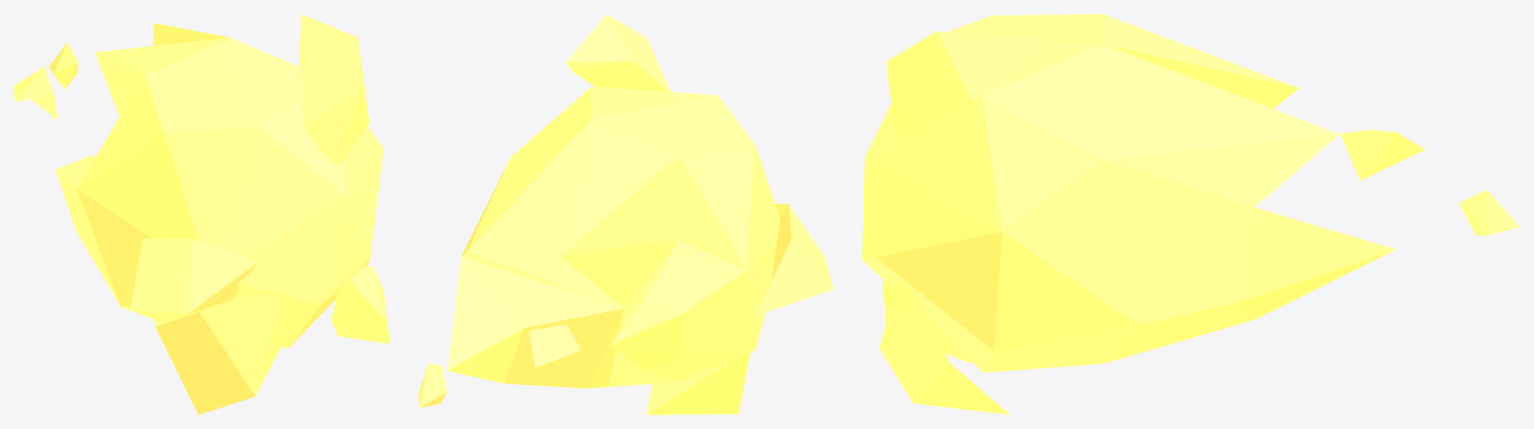
File: fireball.glb
3 renders of one model, left to right at view 1: azimuth 30°, elevation 25°; view 2: azimuth 150°, elevation 25°; view 3: azimuth 270°, elevation 25°, orthographic. The views are drawn at different scales.
Parts seen in each view (by area): view 1: campfire; view 2: campfire; view 3: campfire.
Part boxes in pixels (left/top/right/bottom): campfire: left=14, top=14, right=389, bottom=414; campfire: left=418, top=14, right=833, bottom=414; campfire: left=862, top=14, right=1519, bottom=414.
Bounding box in the file's own units: 0.4823 × 0.5786 × 0.8306.
1 material, 1 textured.
